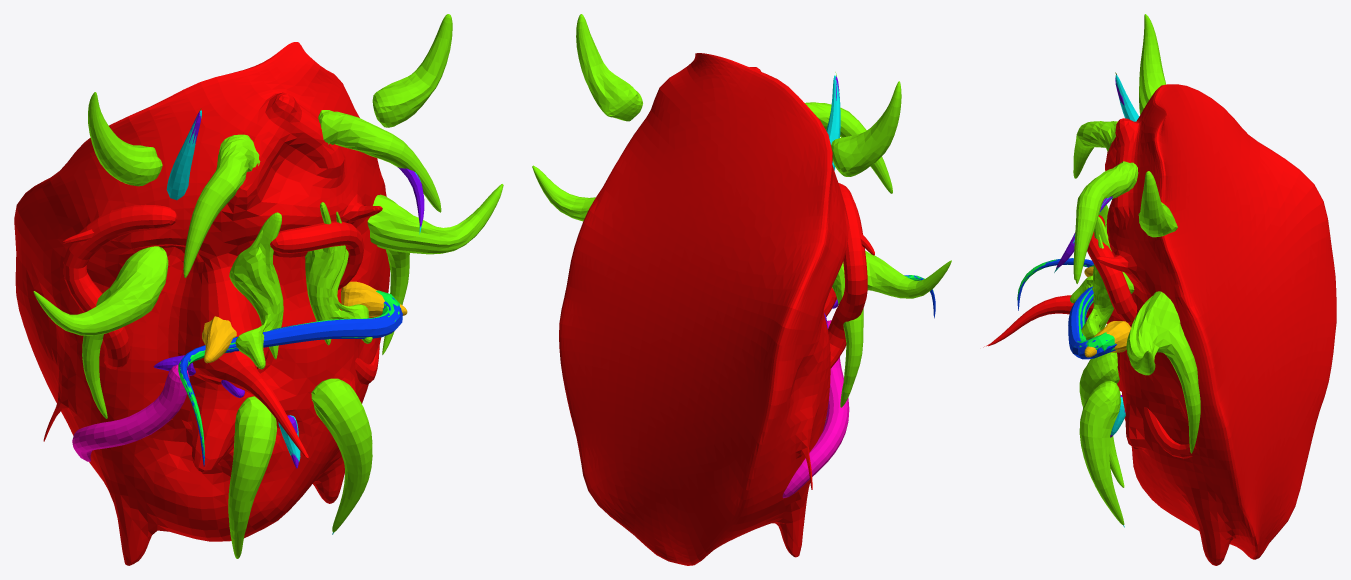
3 renders of one model, left to right at view 1: azimuth 30°, elevation 25°; view 2: azimuth 150°, elevation 25°; view 3: azimuth 270°, elevation 25°, orthographic. The views are drawn at different scales.
Visible parts, largest first — view 1: ZBrush_defualt_group; view 2: ZBrush_defualt_group; view 3: ZBrush_defualt_group.
Boxes of the visible parts, left/top/right/bottom form: ZBrush_defualt_group: left=14, top=14, right=503, bottom=565; ZBrush_defualt_group: left=532, top=14, right=951, bottom=565; ZBrush_defualt_group: left=983, top=14, right=1336, bottom=565.
Bounding box in the file's own units: 1050 × 1143 × 804.
